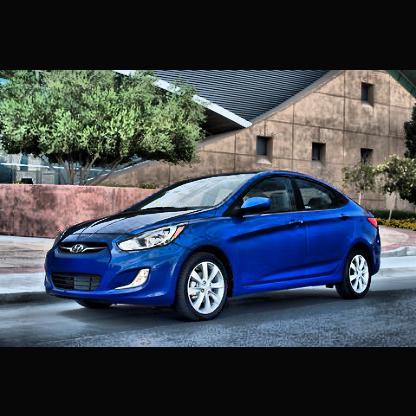Hyundai Accent Sedan 2012: (45, 171, 383, 319)
